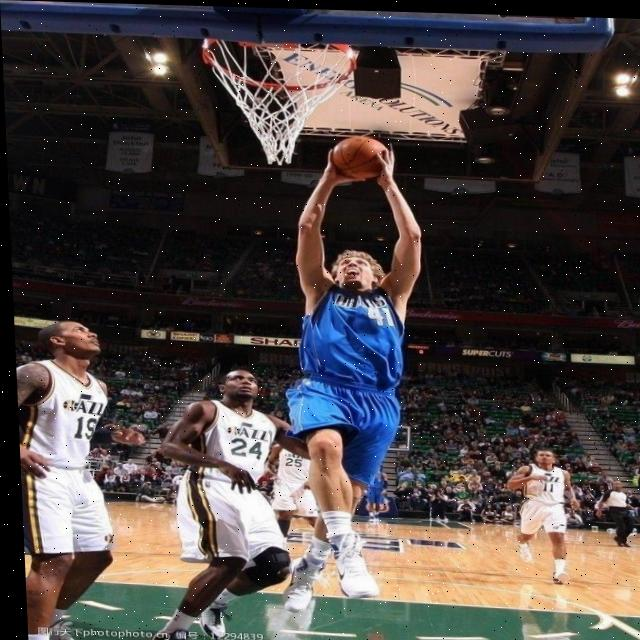basketball: (330, 130, 392, 180)
hoop: (201, 35, 359, 167)
